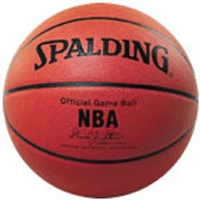basketball: (4, 3, 199, 199)
